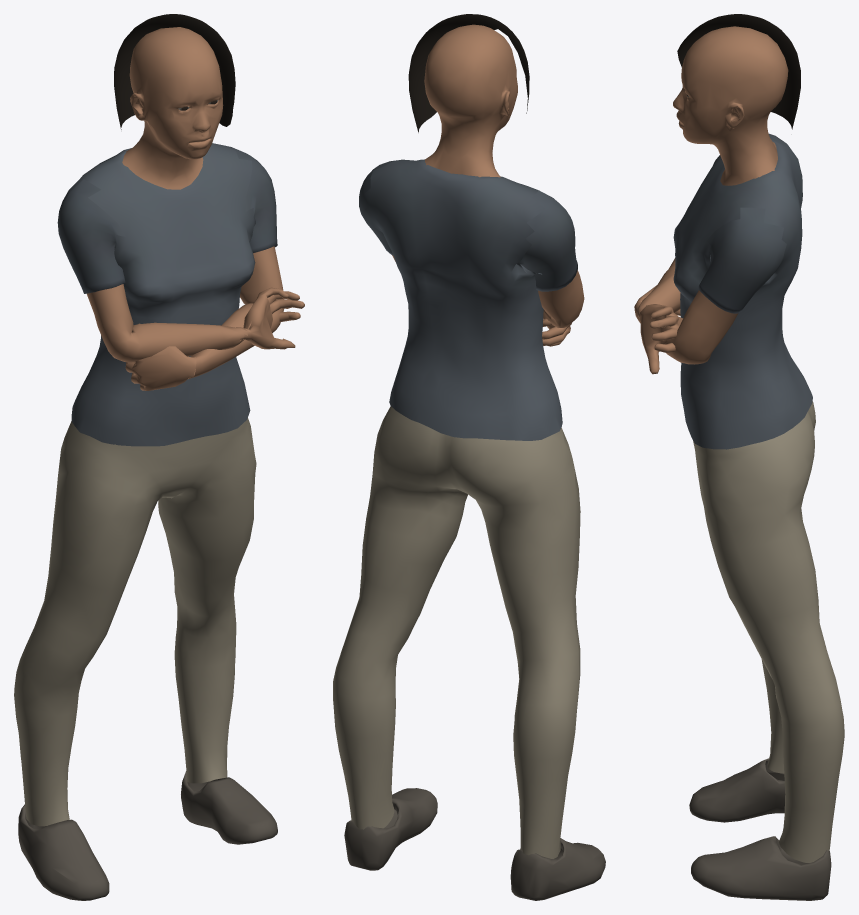
Rendered from participant-12-middle.glb.
The picture shows the model from 3 angles, left to right: view 1: azimuth 30°, elevation 25°; view 2: azimuth 150°, elevation 25°; view 3: azimuth 270°, elevation 25°; orthographic projection.
Parts seen in each view (by area): view 1: Participant anatomy and ordinary clothes; view 2: Participant anatomy and ordinary clothes; view 3: Participant anatomy and ordinary clothes.
Part boxes in pixels (x1=…): Participant anatomy and ordinary clothes: x1=14, y1=14, x2=304, y2=900; Participant anatomy and ordinary clothes: x1=333, y1=14, x2=605, y2=900; Participant anatomy and ordinary clothes: x1=634, y1=14, x2=844, y2=900.
Bounding box in the file's own units: 0.4835 × 1.69 × 0.3817.
